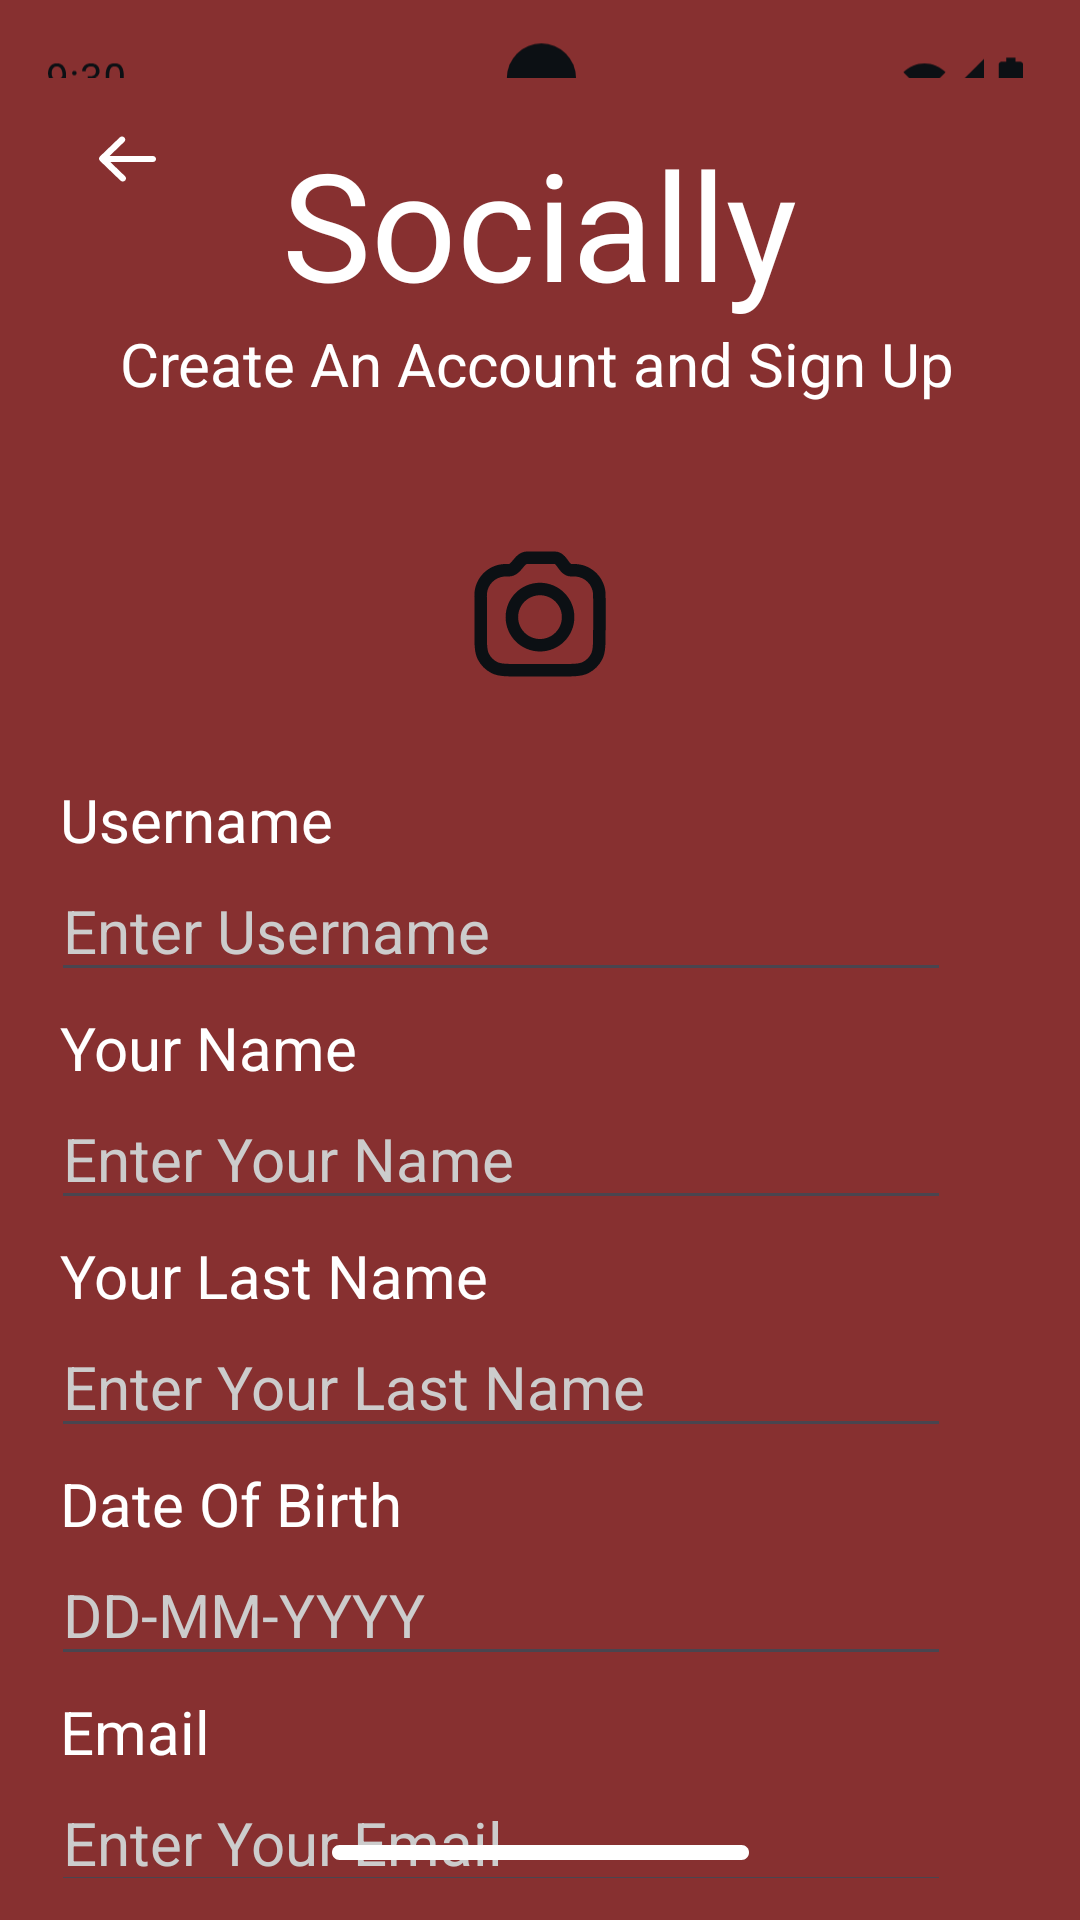

Icons on this 1080 x 1920 Android screen, each with its box as bbox=[x1, y1, x2, y2]:
camera: bbox=[474, 551, 606, 677]
